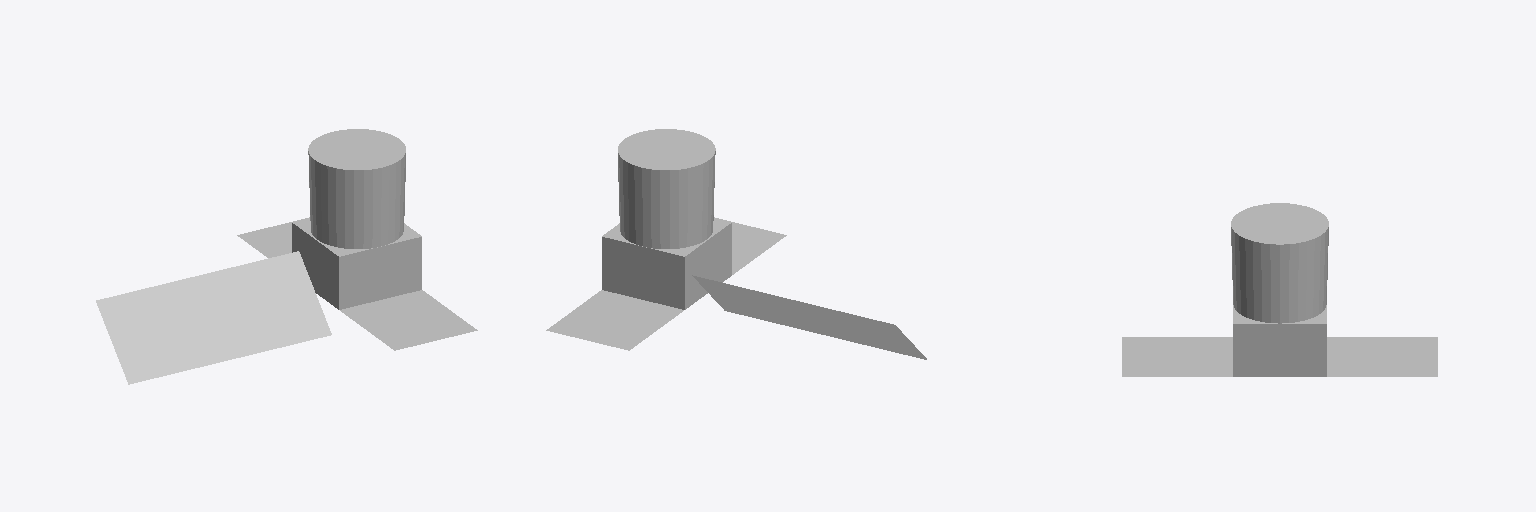
Rendered from straight_combined_LAMP_full_45.obj.
The picture shows the model from 3 angles: view 1: azimuth 30°, elevation 25°; view 2: azimuth 150°, elevation 25°; view 3: azimuth 270°, elevation 25°; orthographic projection.
Parts seen in each view (by area): view 1: 27U_combined_case_straight_solar.001, 27U_combined_case_straight_solar.000; view 2: 27U_combined_case_straight_solar.001, 27U_combined_case_straight_solar.000; view 3: 27U_combined_case_straight_solar.001.
Boxes of the visible parts, x1=… form: 27U_combined_case_straight_solar.001: x1=237, y1=129, x2=477, y2=350; 27U_combined_case_straight_solar.000: x1=96, y1=251, x2=331, y2=384; 27U_combined_case_straight_solar.001: x1=546, y1=129, x2=786, y2=350; 27U_combined_case_straight_solar.000: x1=692, y1=275, x2=926, y2=359; 27U_combined_case_straight_solar.001: x1=1122, y1=203, x2=1437, y2=376.
Bounding box in the file's own units: 1.24 × 0.6737 × 1.18.